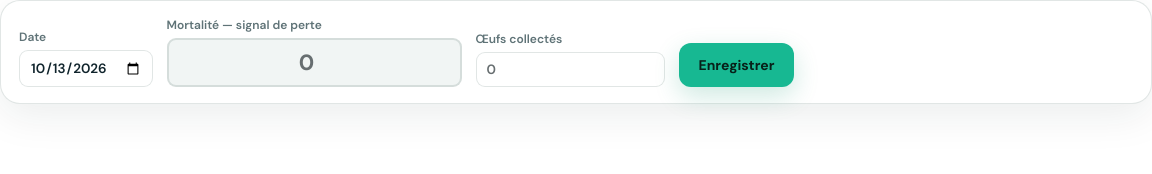
Test case: QuickEntryPanel — independent mortality / eggs upsert › both fields clear after a successful save so the next entry starts fresh
In the number field labelled "Mortalité — signal de perte": (314, 62) left=166, top=38, right=462, bottom=87, type "3"
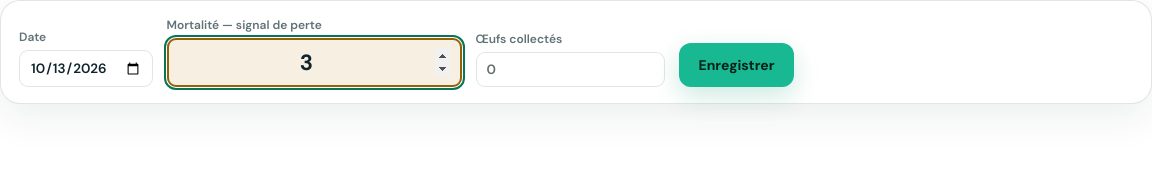
In the number field labelled "Œufs collectés": (570, 70) left=476, top=52, right=664, bottom=87, type "9"
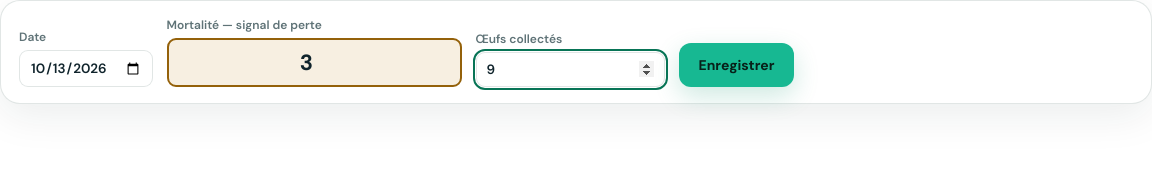
Click the button "Enregistrer": (736, 65) left=678, top=43, right=794, bottom=87
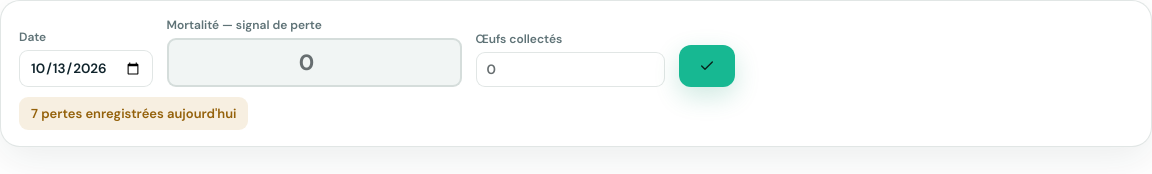
Check: the number field labelled "Mortalité — signal de perte" is not empty, box left=166, top=38, right=462, bottom=87
Check: the number field labelled "Œufs collectés" is not empty, box left=476, top=52, right=664, bottom=87
